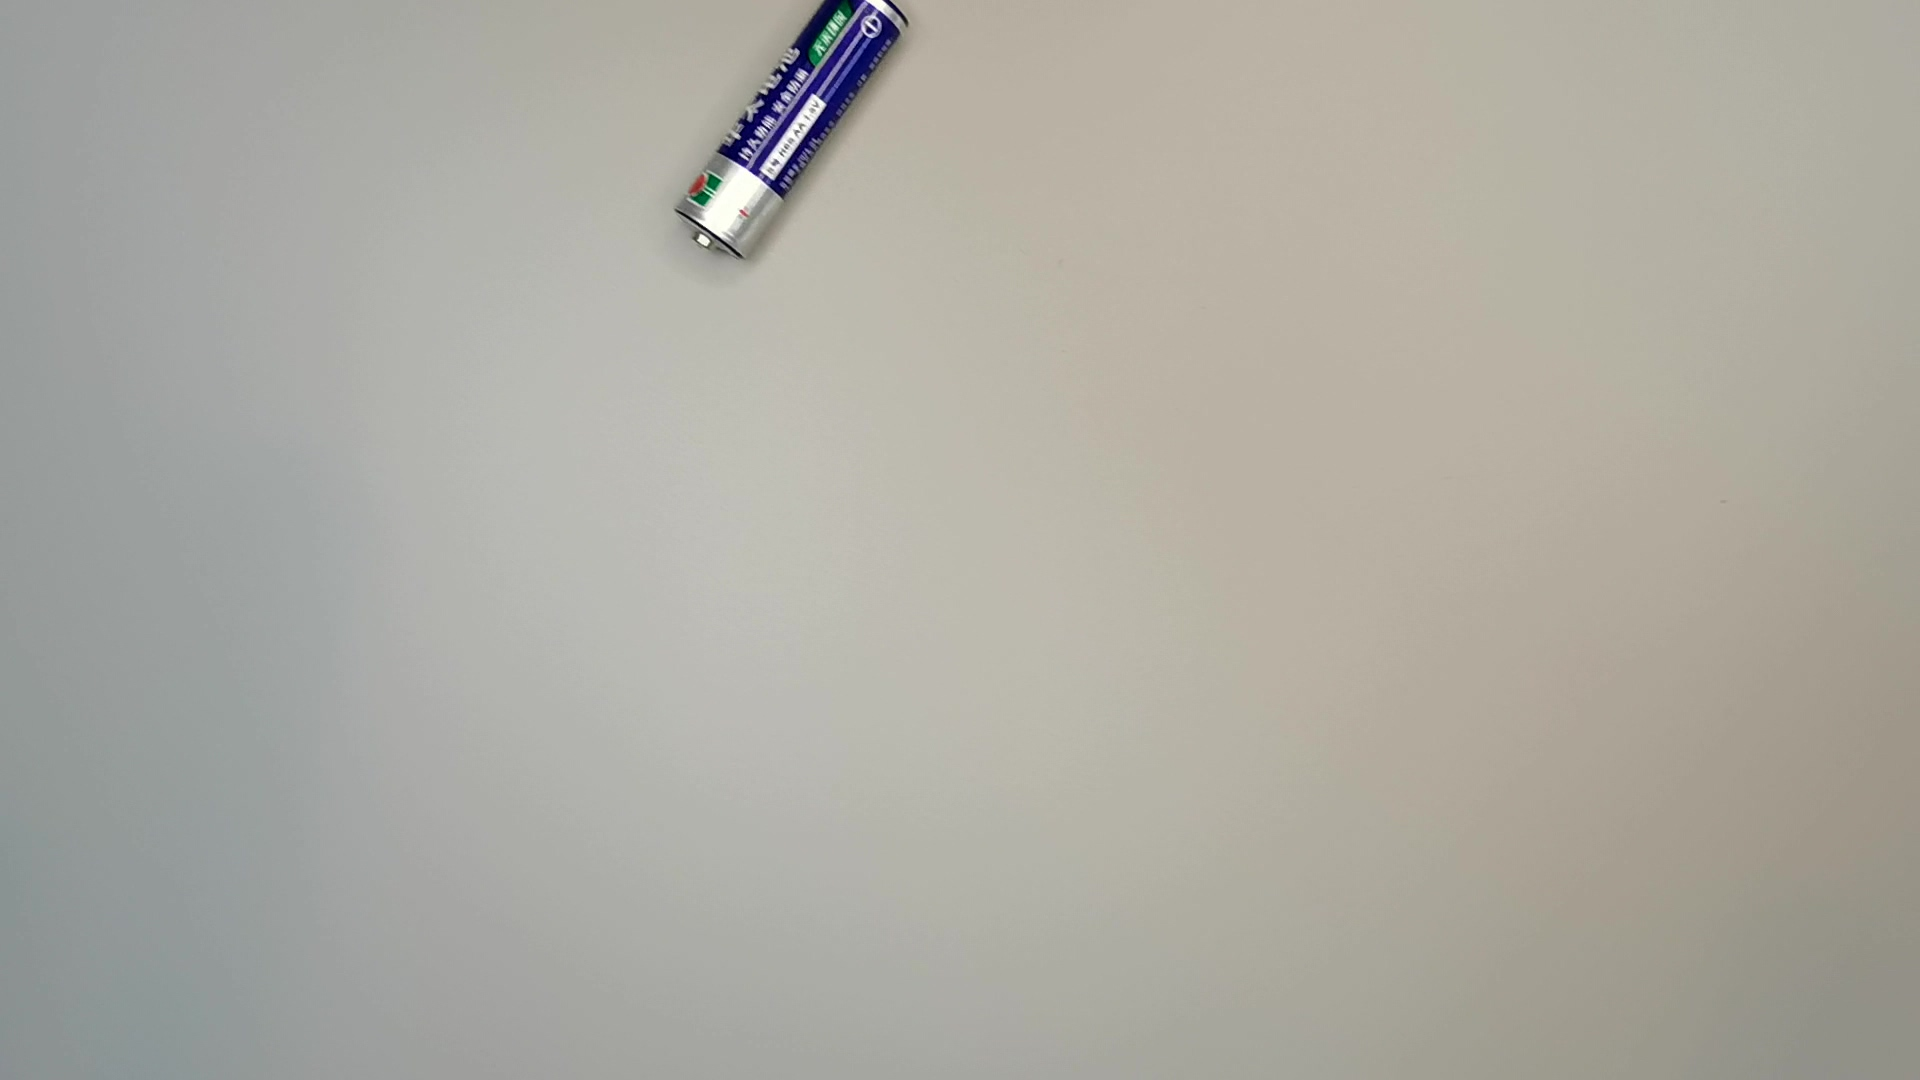battery: (671, 1, 916, 272)
